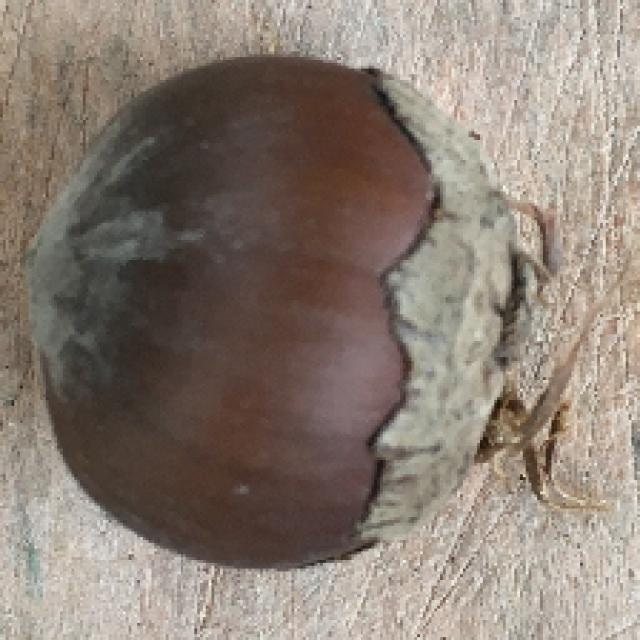damagedHazelnut: (22, 66, 546, 568)
